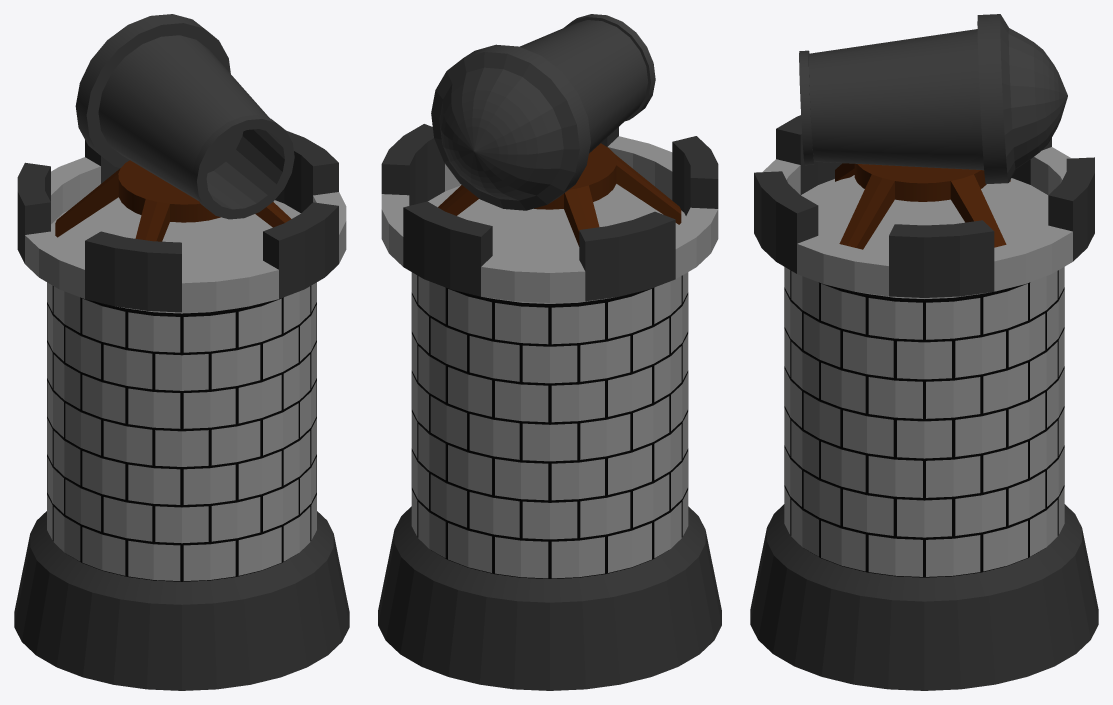
File: tower1.FBX
3 views of the same model, side by side, from view 1: azimuth 30°, elevation 25°; view 2: azimuth 150°, elevation 25°; view 3: azimuth 270°, elevation 25° (orthographic). The views are drawn at different scales.
Visible parts, largest first — view 1: Cylinder001, Cylinder002, Cylinder003; view 2: Cylinder001, Cylinder002, Cylinder003; view 3: Cylinder001, Cylinder002, Cylinder003.
Boxes of the visible parts, x1=… form: Cylinder001: x1=14, y1=130, x2=349, y2=690; Cylinder002: x1=75, y1=14, x2=294, y2=219; Cylinder003: x1=55, y1=160, x2=291, y2=241; Cylinder001: x1=378, y1=124, x2=721, y2=690; Cylinder002: x1=431, y1=14, x2=655, y2=210; Cylinder003: x1=438, y1=143, x2=681, y2=246; Cylinder001: x1=750, y1=115, x2=1098, y2=690; Cylinder002: x1=799, y1=14, x2=1067, y2=184; Cylinder003: x1=835, y1=163, x2=1010, y2=249.
Bounding box in the file's own units: 38.5 × 72.56 × 38.29.
